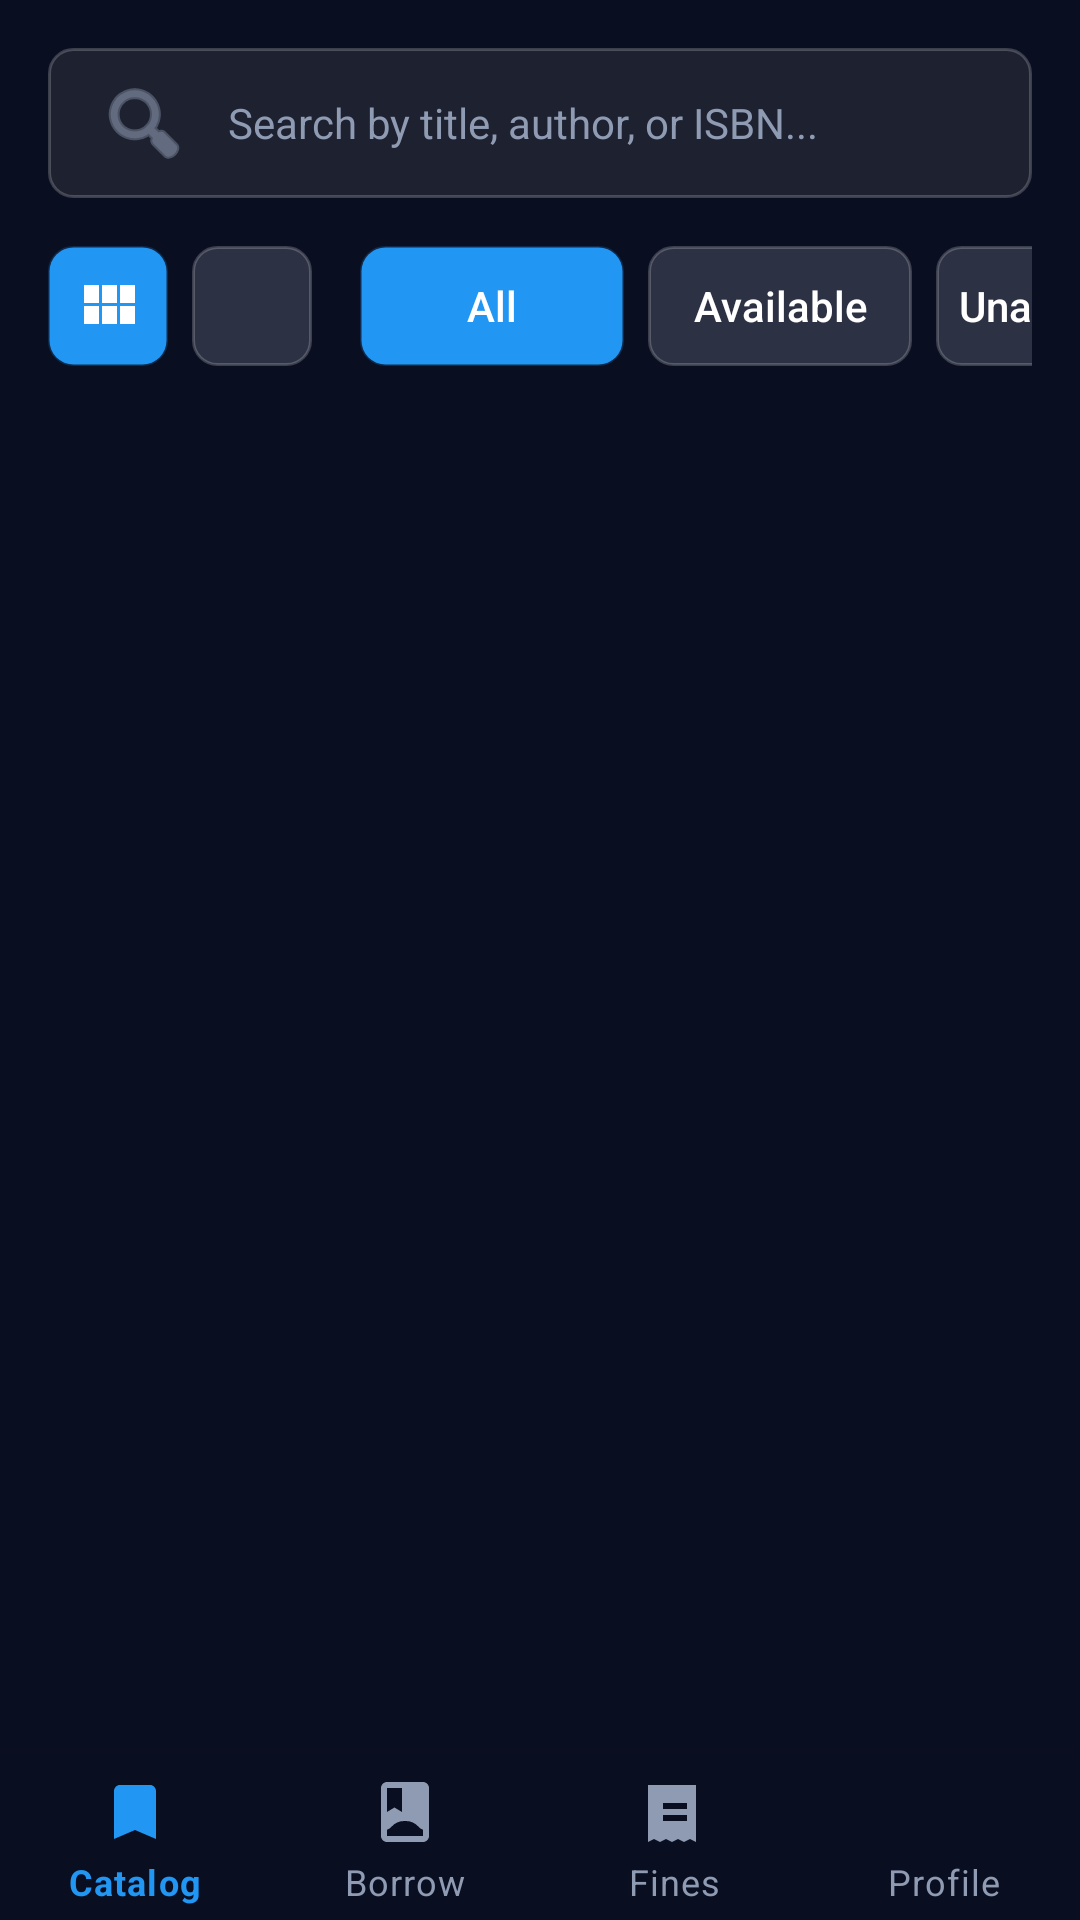

Point at icon controls on the screen. Image size 1080 × 1920, points as (x=x, y=y).
view grid: (x=108, y=306)
